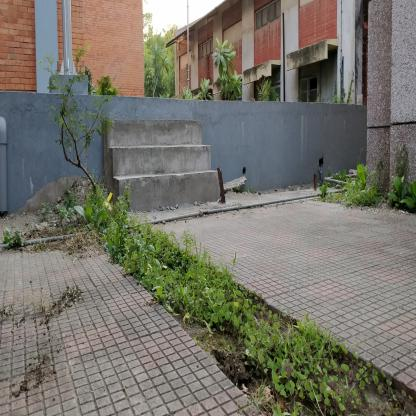stairs: (132, 96, 203, 218)
